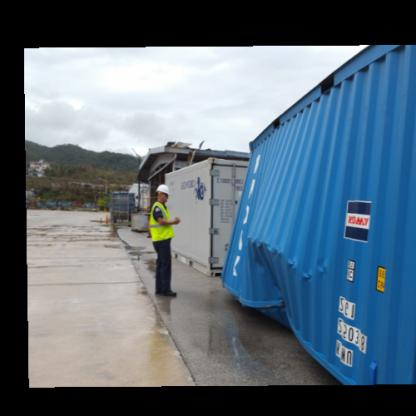Damage: (227, 228, 332, 327)
